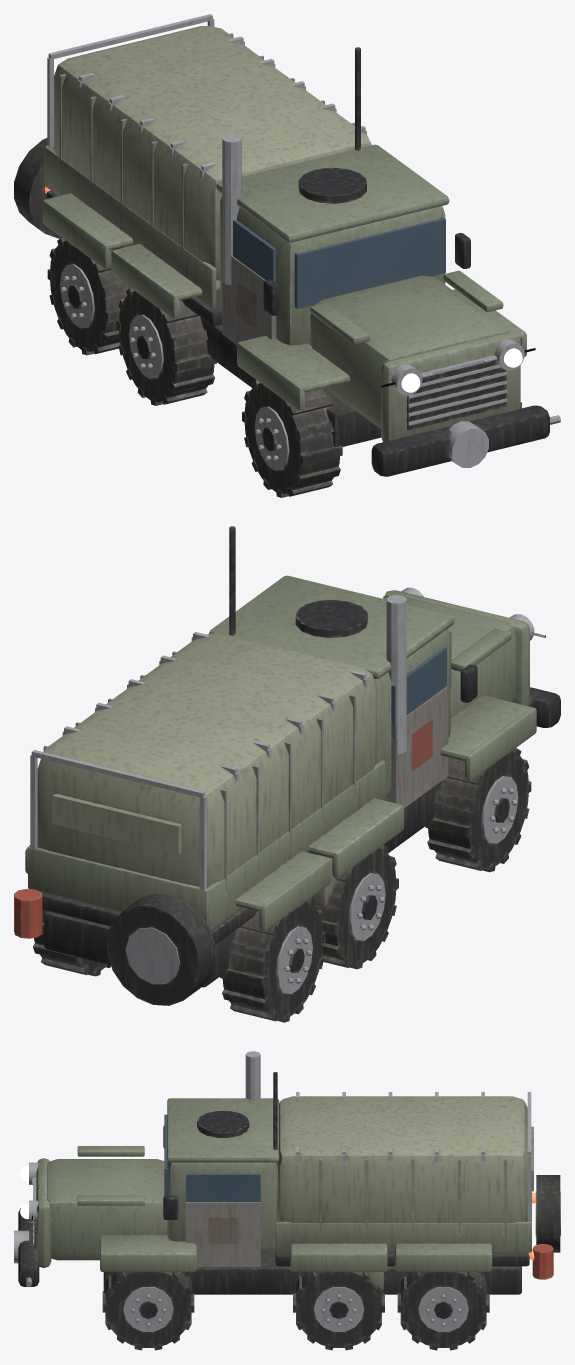
File: red_truck.glb
The picture shows the model from 3 angles, top to bottom: view 1: azimuth 30°, elevation 25°; view 2: azimuth 150°, elevation 25°; view 3: azimuth 270°, elevation 25°; orthographic projection. The views are drawn at different scales.
Visible parts, largest first — view 1: Hull; view 2: Hull; view 3: Hull.
Part boxes in pixels (<box>): Hull: <box>14,14,560,497</box>; Hull: <box>14,526,560,1022</box>; Hull: <box>14,1051,560,1350</box>.
Size of the model in its own units: 2.71 by 3.83 by 7.32.
Materials: 12 (12 with a texture image).
